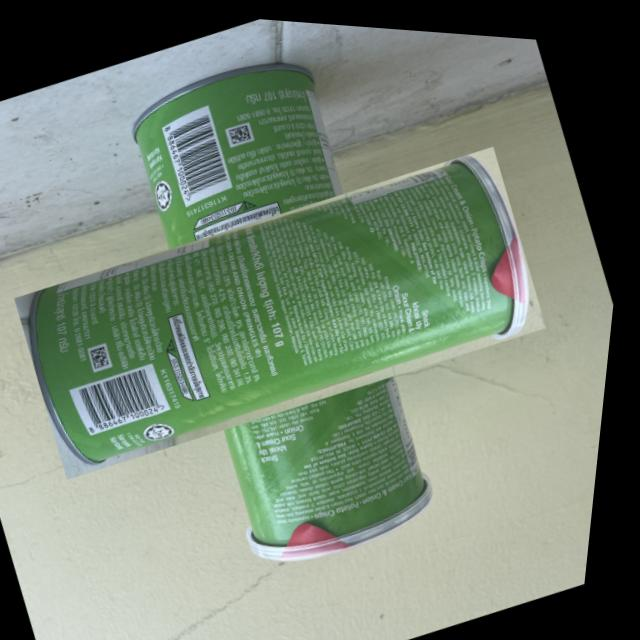a pringles: (44, 72, 528, 545)
